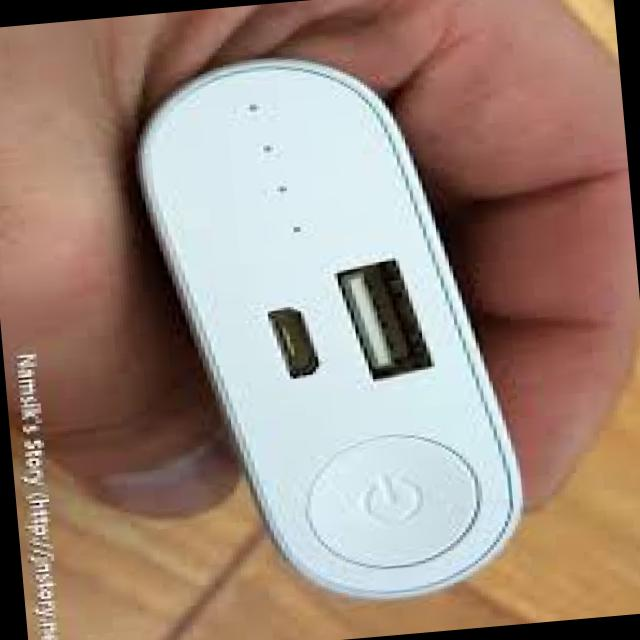power_bank: (114, 36, 539, 624)
